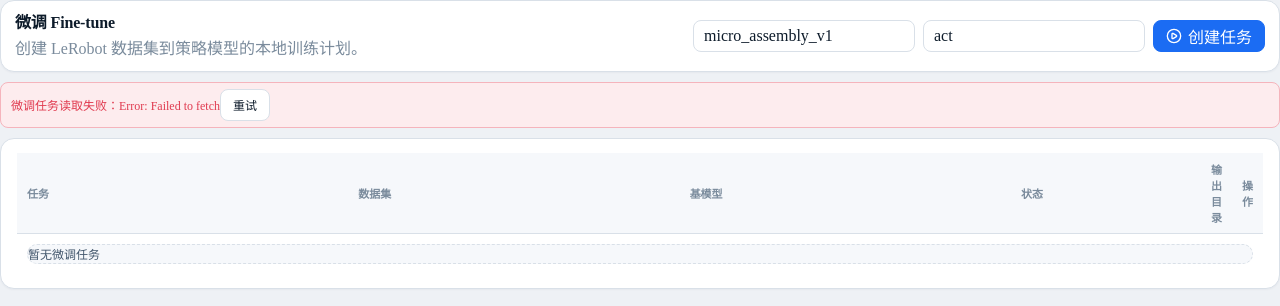
Test: fineTune 请求生命周期 › 初始网络失败显示可重试错误，不产生未处理拒绝
Expected: the message shows "Failed to fetch", [11, 99, 220, 113]
Click the button "重试" at (245, 105), box [220, 89, 270, 121]
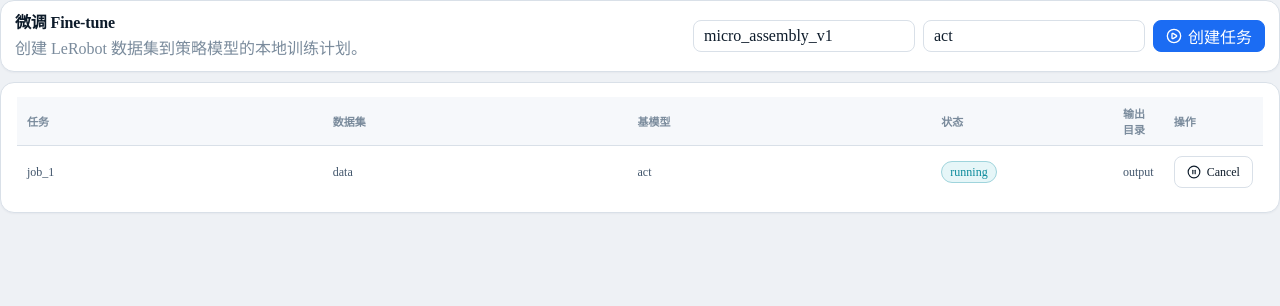
Result: the message "微调任务读取失败：Error: Failed to fetch 重试" is gone
